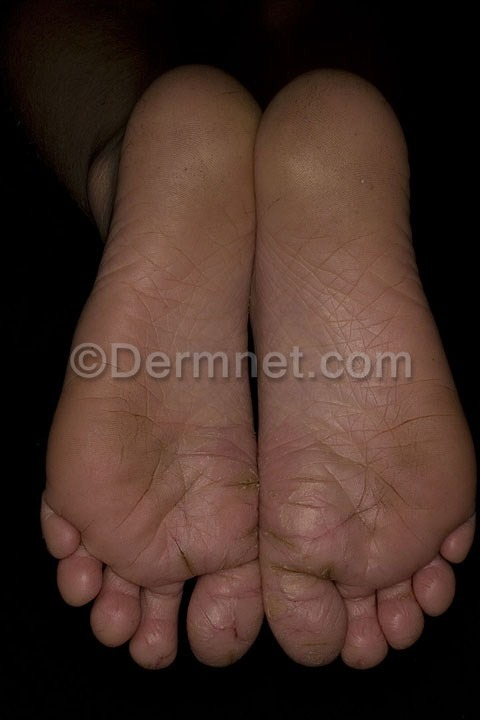Eczema: (265, 416, 463, 673), (64, 410, 255, 671)
